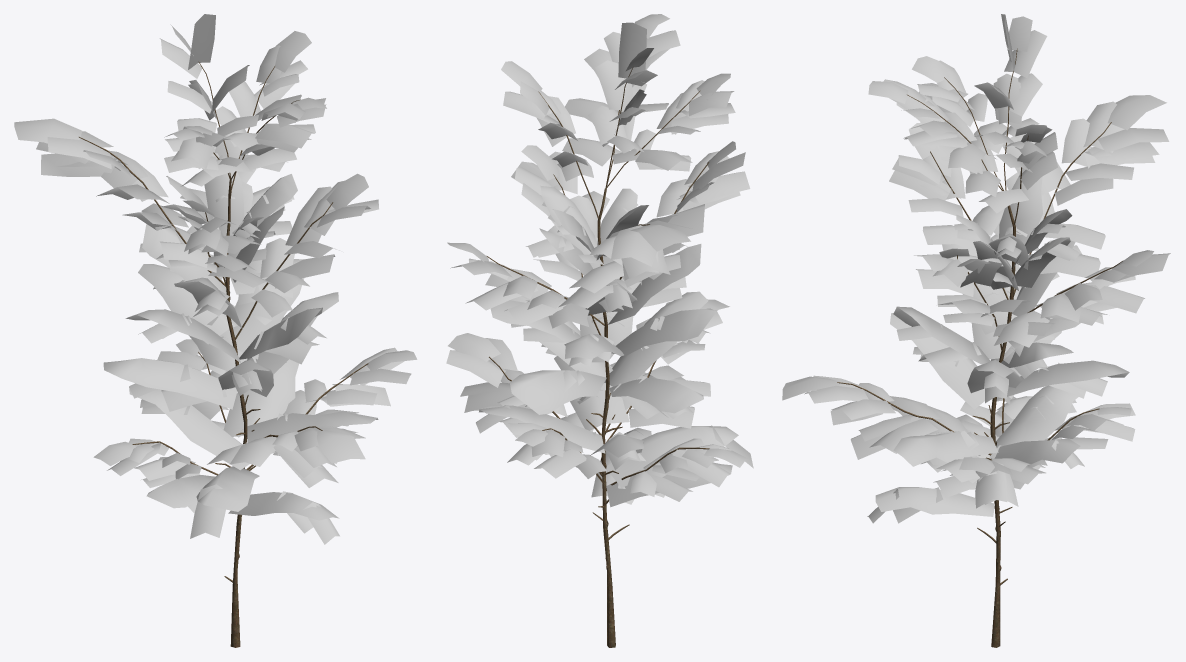
File: Tree_Small1_LOD1.fbx
3 renders of one model, left to right at view 1: azimuth 30°, elevation 25°; view 2: azimuth 150°, elevation 25°; view 3: azimuth 270°, elevation 25°, orthographic. The views are drawn at different scales.
Visible parts, largest first — view 1: polySurface8; view 2: polySurface8; view 3: polySurface8.
Part boxes in pixels (x1,y1,x2,y2): polySurface8: (14,14,417,647); polySurface8: (446,14,753,647); polySurface8: (782,14,1170,647).
Bounding box in the file's own units: 241 × 463 × 264.
